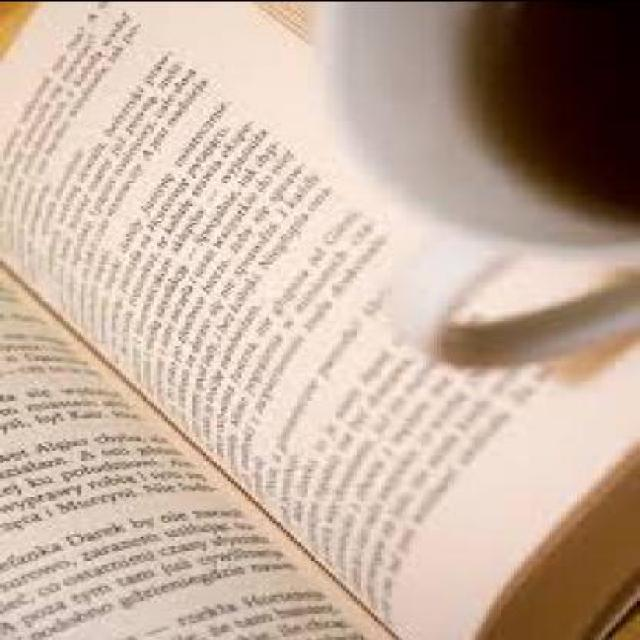PAPER: (0, 1, 638, 638), (0, 260, 391, 638)
